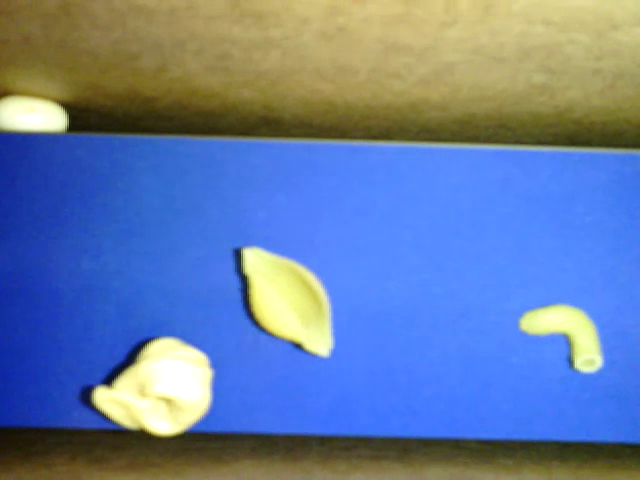elbow: (518, 304, 602, 374)
shell: (240, 243, 335, 359)
tortellini: (89, 337, 212, 436)
